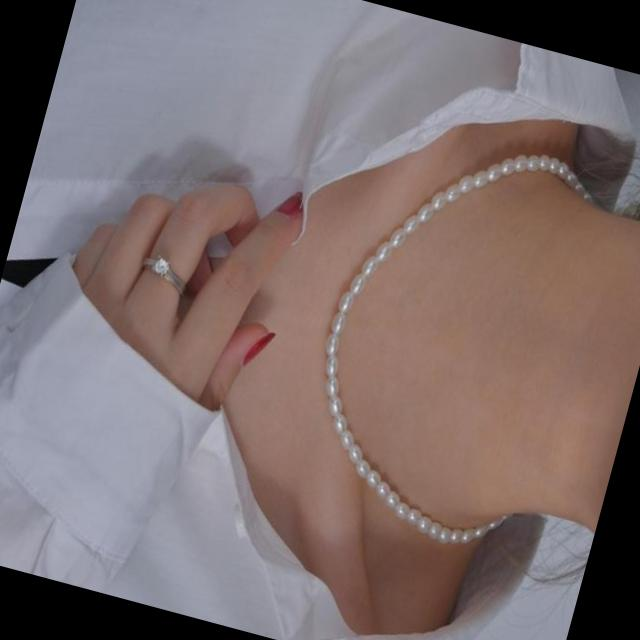Nail: (243, 332, 273, 365), (274, 194, 301, 215)
